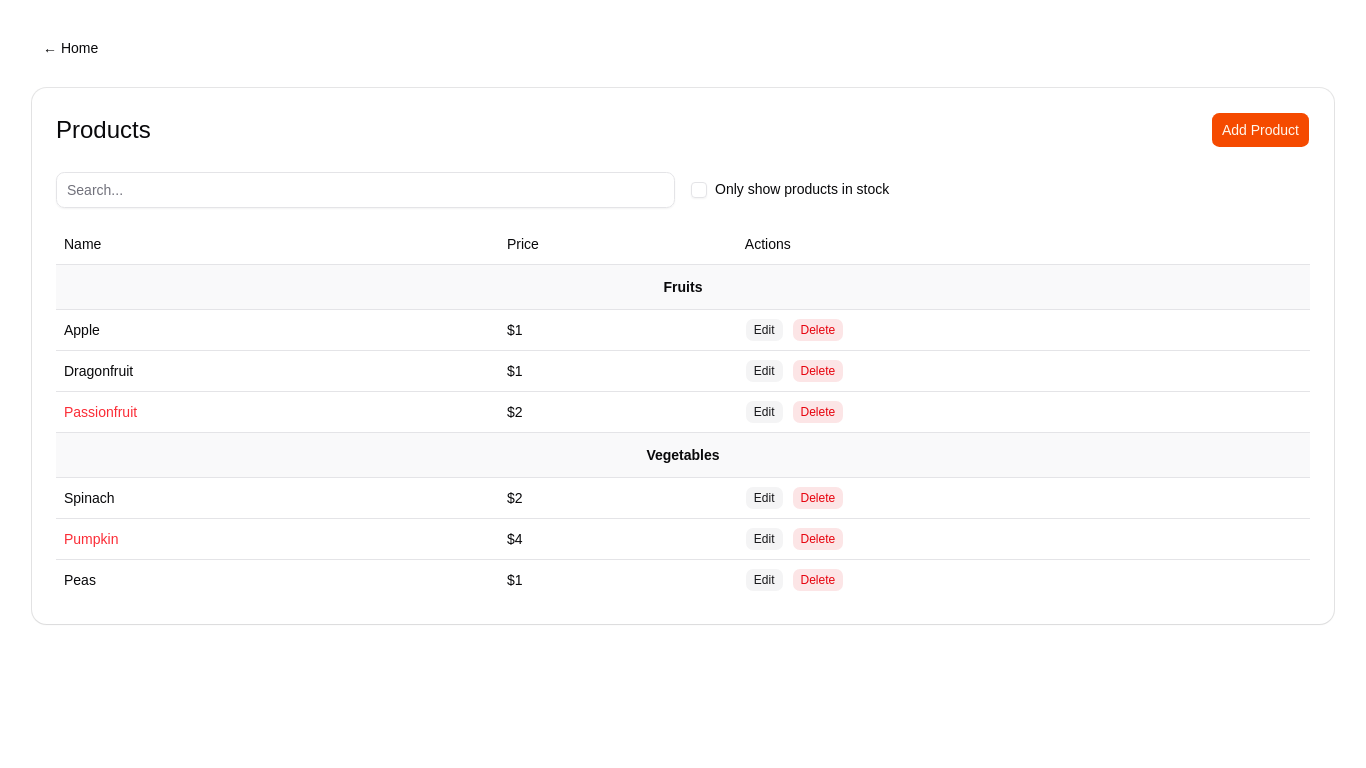
FilterableProductTable › hides form and clears editing state when Cancel is clicked
This screenshot has width=1366, height=768.
Check: the text "Apple" is shown, box left=64, top=322, right=100, bottom=338
Click the button "Add Product" at point(1260, 130), box left=1211, top=112, right=1310, bottom=148
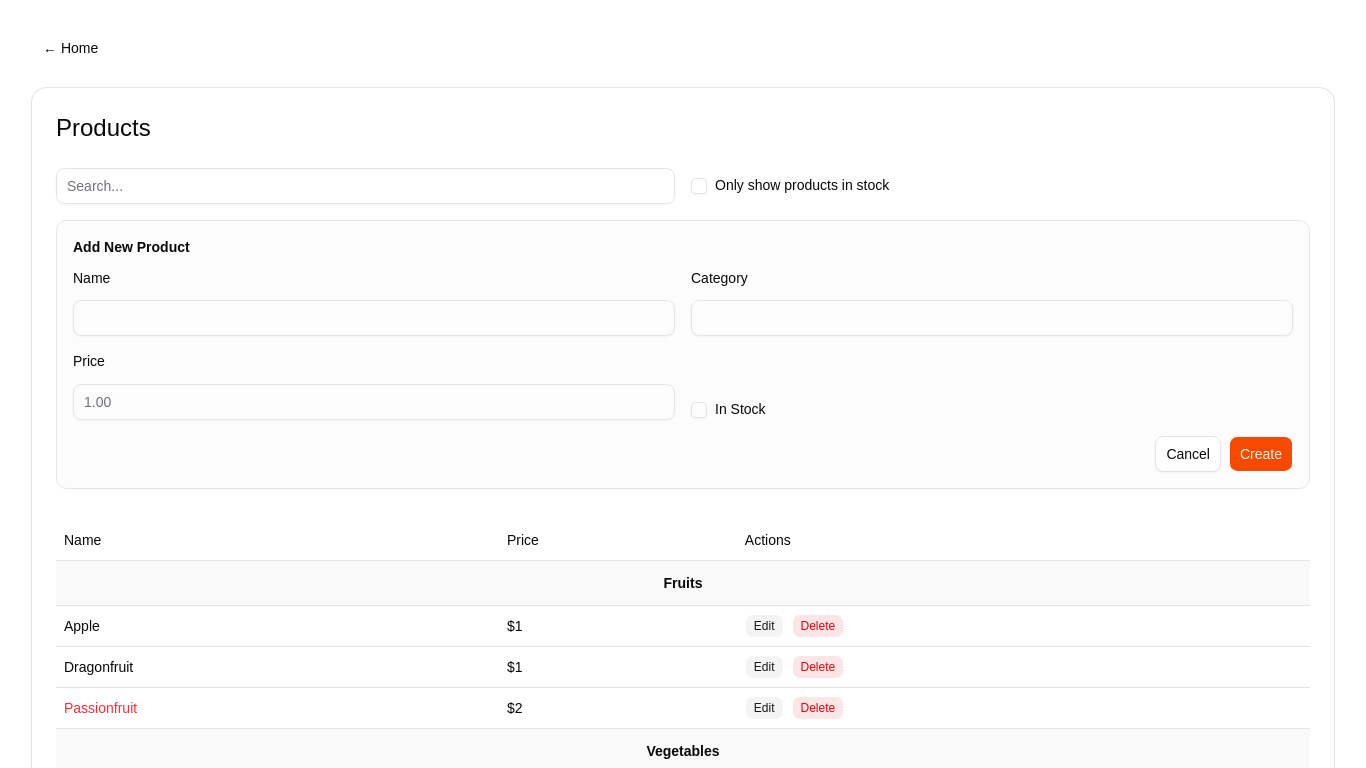
Check: the heading "Add New Product" is shown, box left=73, top=239, right=190, bottom=255
Click the button "Cancel" at point(1188, 454), box left=1155, top=436, right=1221, bottom=472
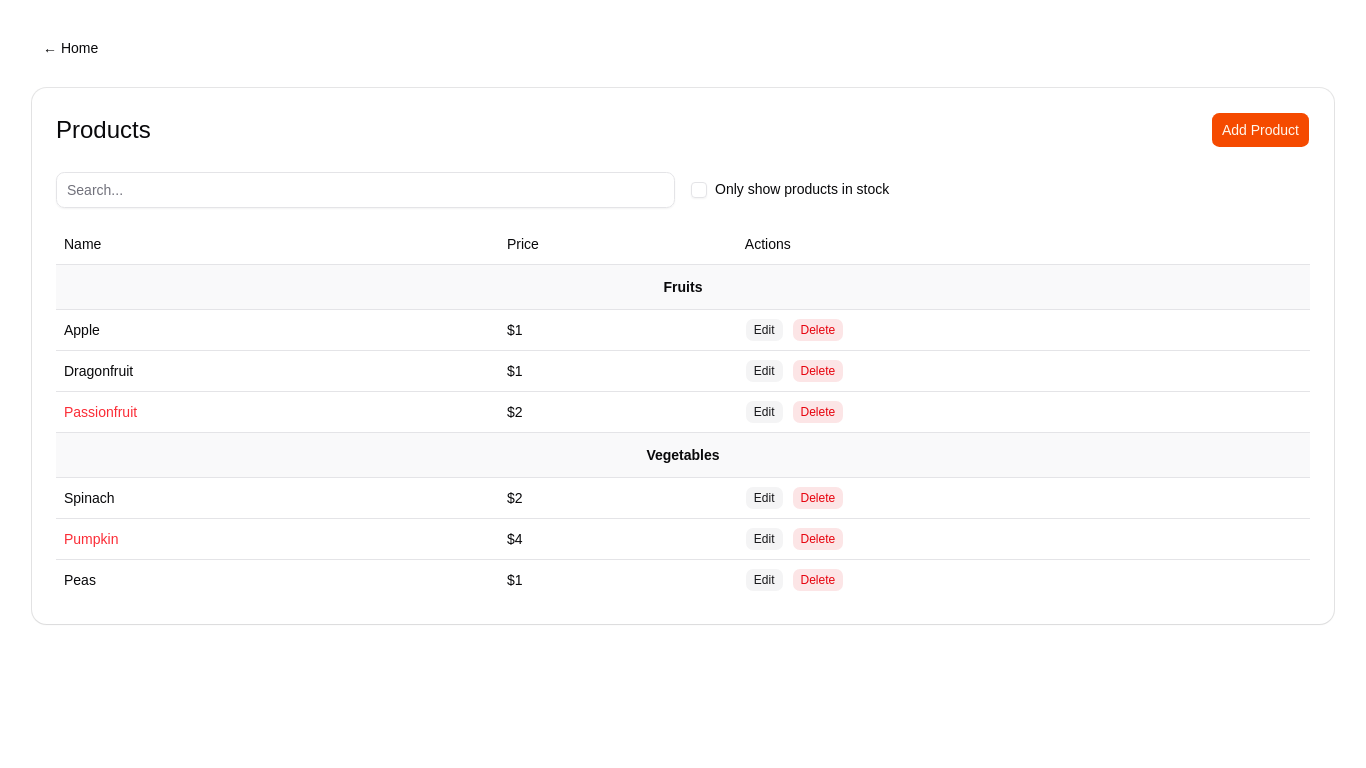
Check: the heading "Add New Product" is gone
Check: the button "Add Product" is shown, box left=1211, top=112, right=1310, bottom=148
